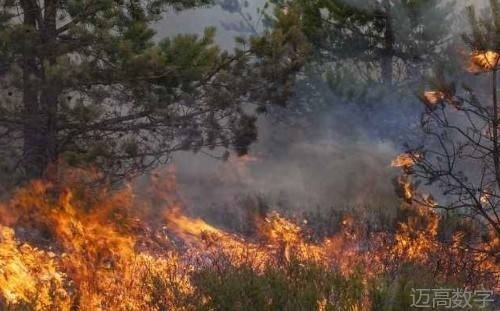fire: (139, 154, 480, 284), (461, 42, 500, 72), (422, 83, 450, 105)
